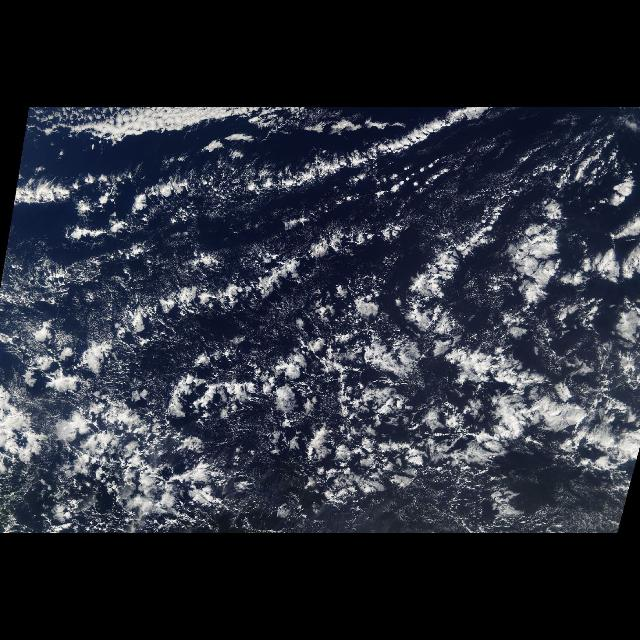Fish: (8, 210, 606, 526)
